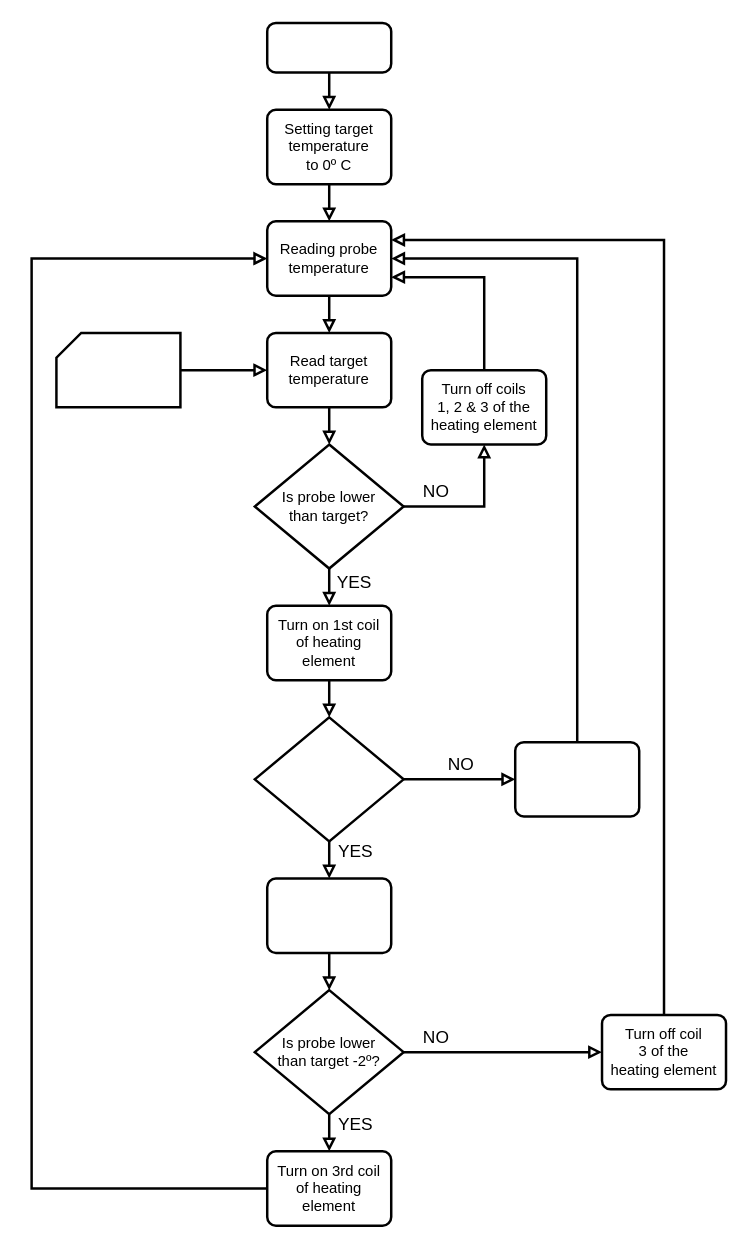
This 748x1247 diagram has some shape labels left out. The centre of each missing label's shape, as x and y in pixels:
"Is probe lower than target -1º?" goes at [328,778].
"System Starts" goes at [328,47].
"Turn off coils 2 & 3 of the heating element" goes at [576,778].
"Turn on 2nd coil of heating element" goes at [328,915].
"User sets target temperature" goes at [118,369].
